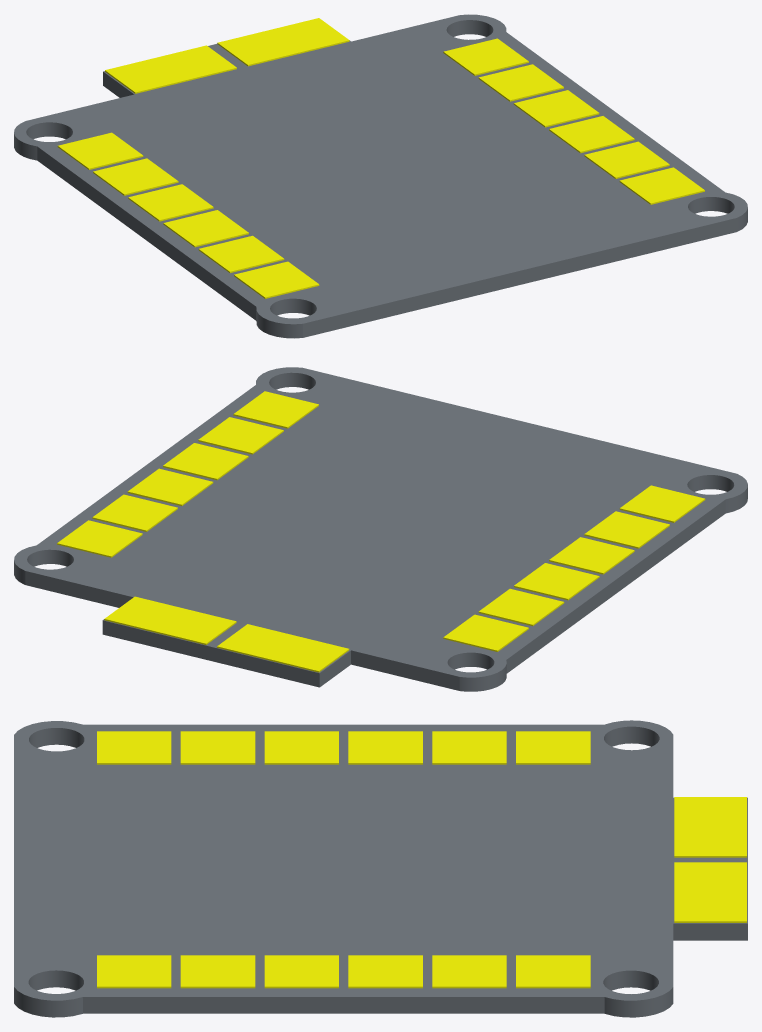
Rendered from esc_4in1.glb.
3 renders of one model, top to bottom at view 1: azimuth 30°, elevation 25°; view 2: azimuth 150°, elevation 25°; view 3: azimuth 270°, elevation 25°, orthographic. The views are drawn at different scales.
Parts seen in each view (by area): view 1: Body, Body001; view 2: Body, Body001; view 3: Body, Body001.
Boxes of the visible parts, x1,y1,x2,y2 form: Body: (14,14,747,338); Body001: (57,18,704,298); Body: (14,367,747,691); Body001: (57,391,705,672); Body: (14,720,747,1017); Body001: (97,731,746,988).
Size of the model in its own units: 0.0356 by 0.0011 by 0.0394.
